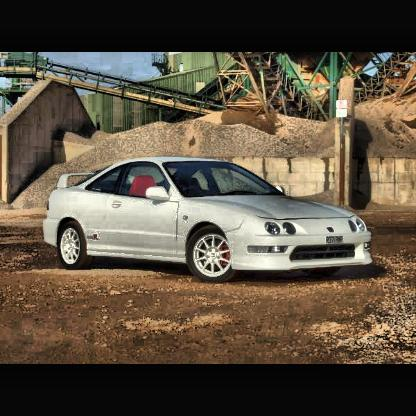Acura Integra Type R 2001: (44, 157, 377, 288)
